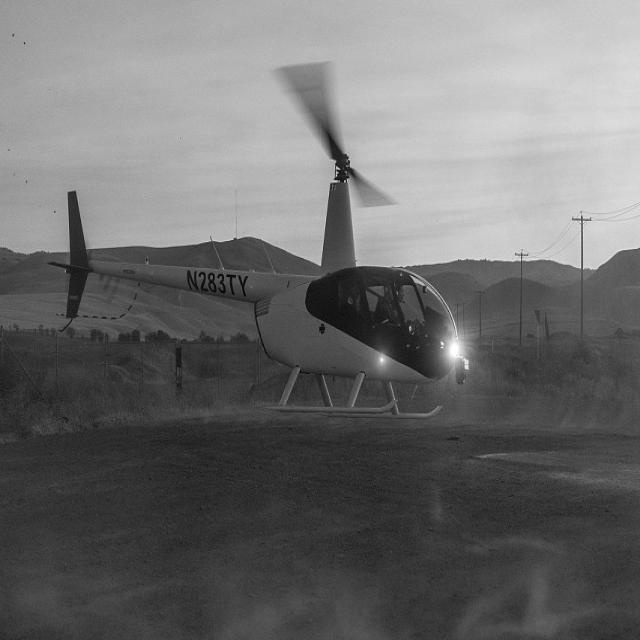helicopter: (64, 59, 470, 432)
